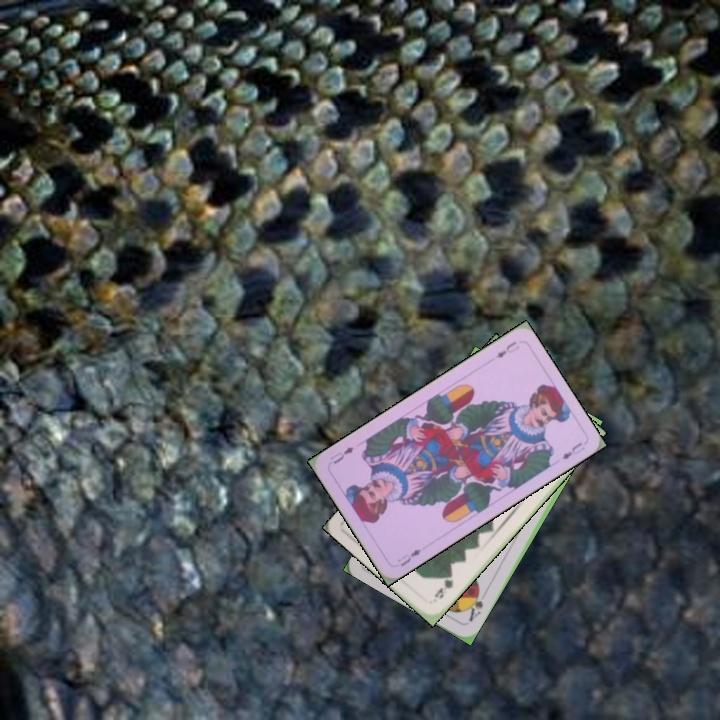EU: (393, 545, 423, 569), (492, 337, 522, 361)
G9: (430, 570, 456, 601)
SA: (464, 586, 486, 624)
